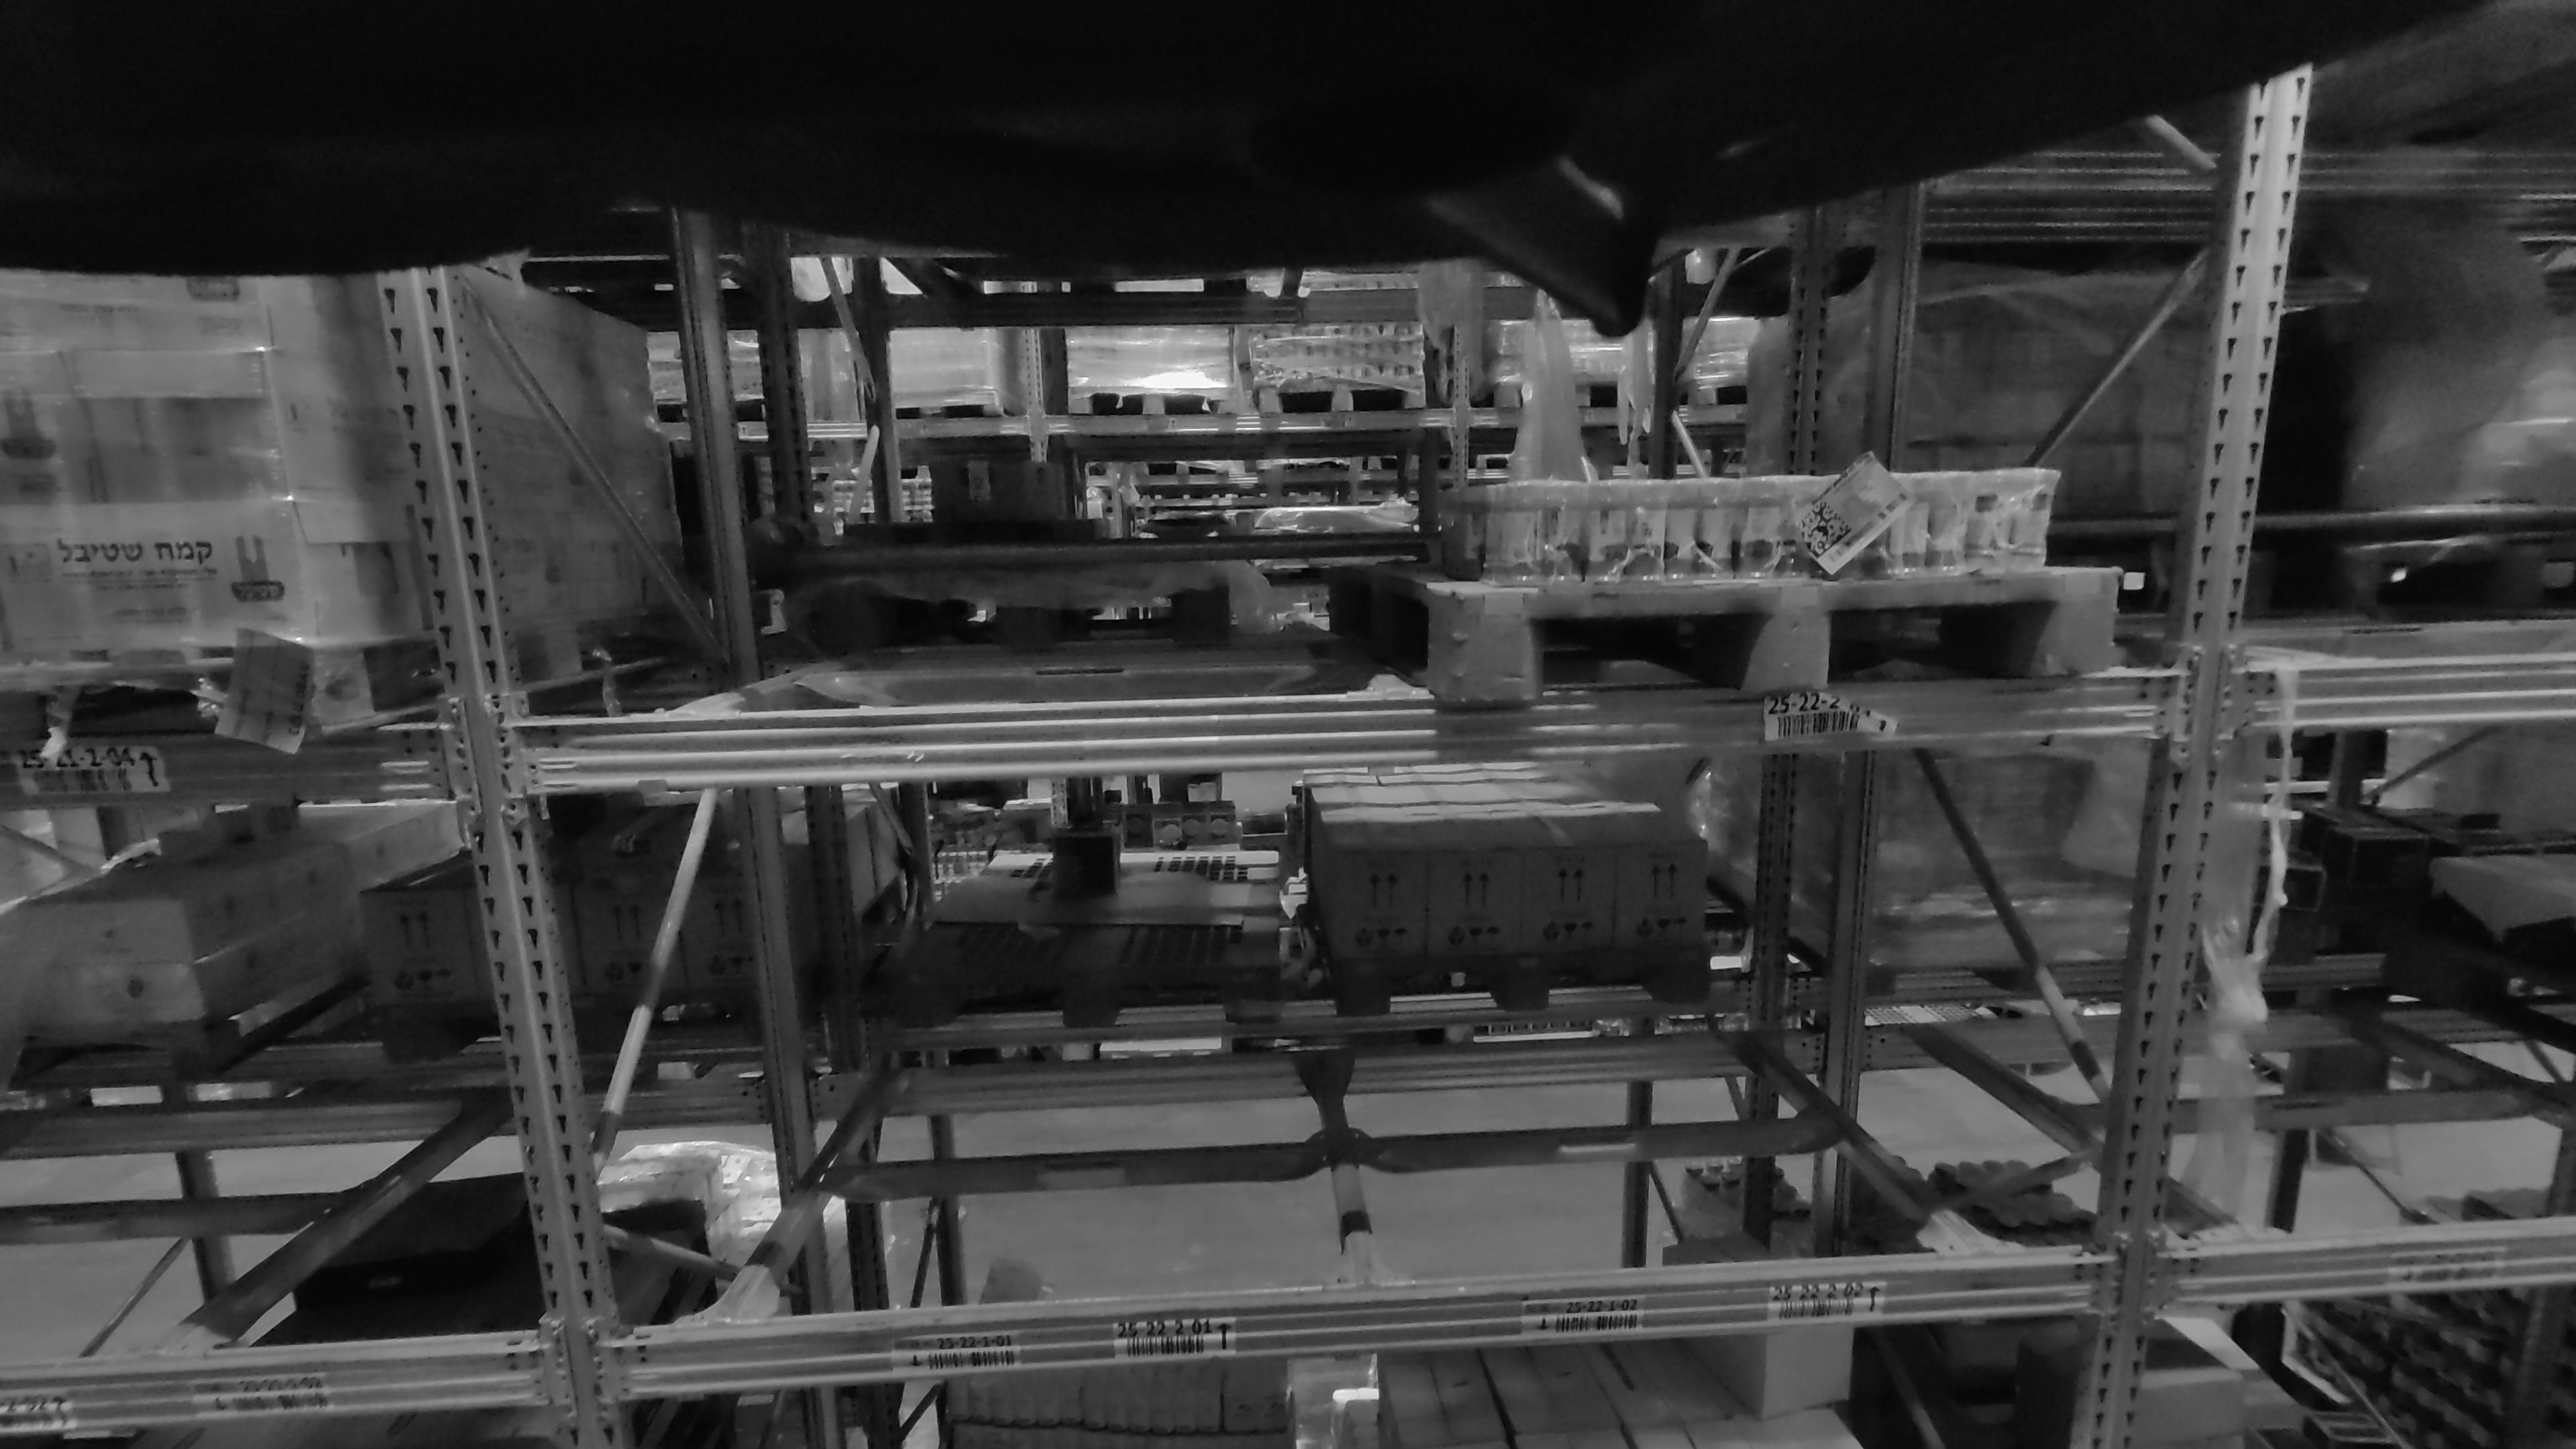empty-shelf: (637, 205, 1329, 706), (1368, 770, 1976, 1254), (768, 798, 1329, 1295), (32, 798, 541, 1332), (2254, 740, 2576, 1214)
